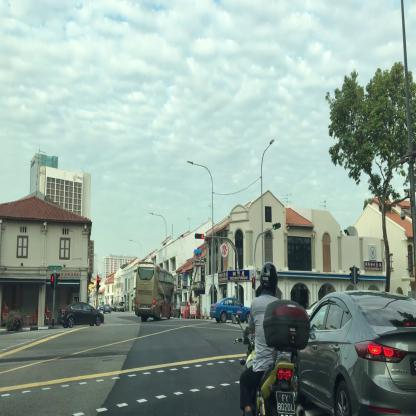red_traffic_light: (195, 234, 203, 239), (97, 277, 99, 289)
